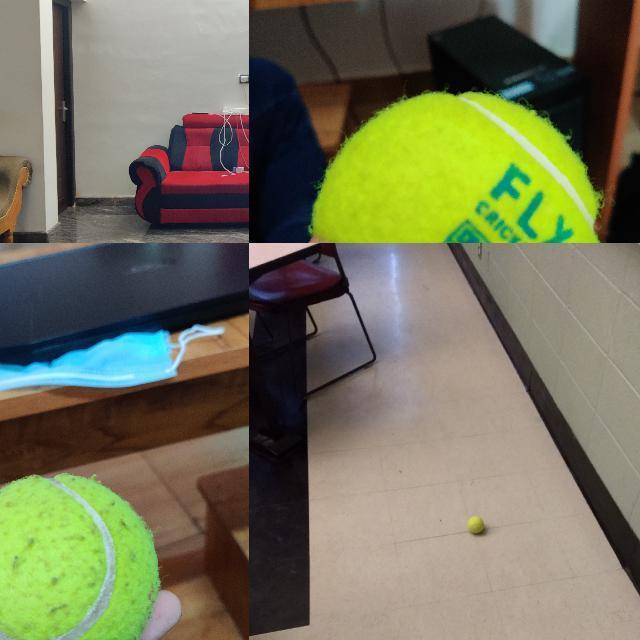tennis-ball: (313, 91, 599, 242), (0, 473, 159, 639), (466, 515, 484, 534)
